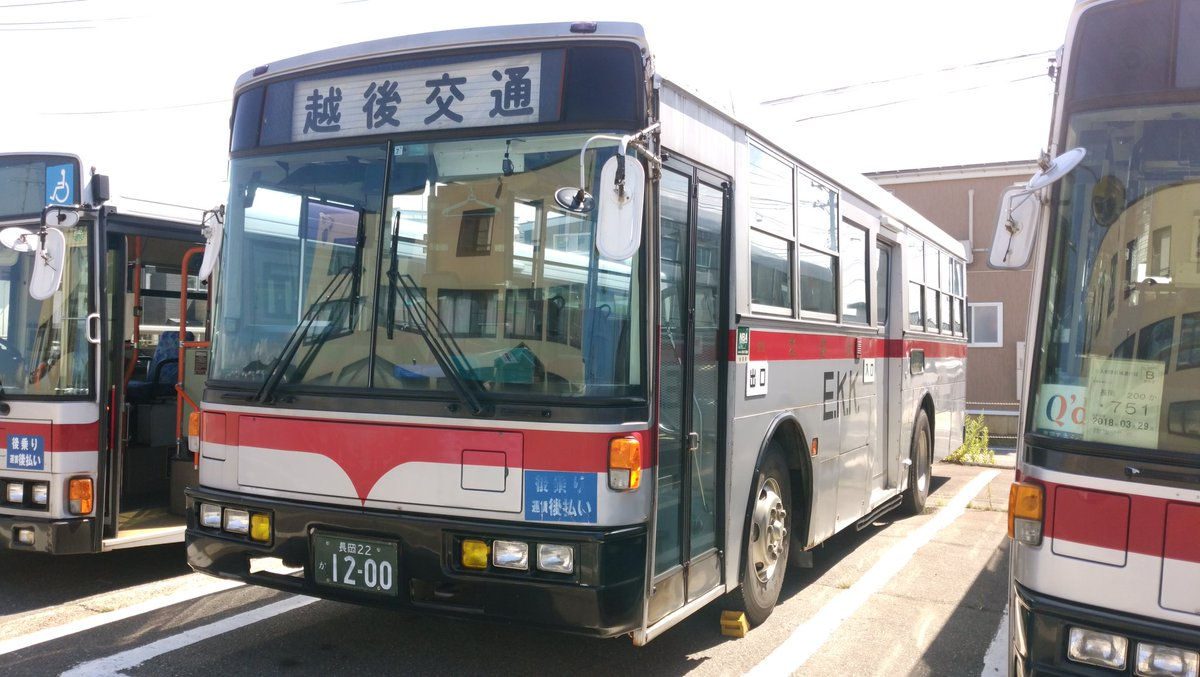destination: (288, 51, 542, 142)
